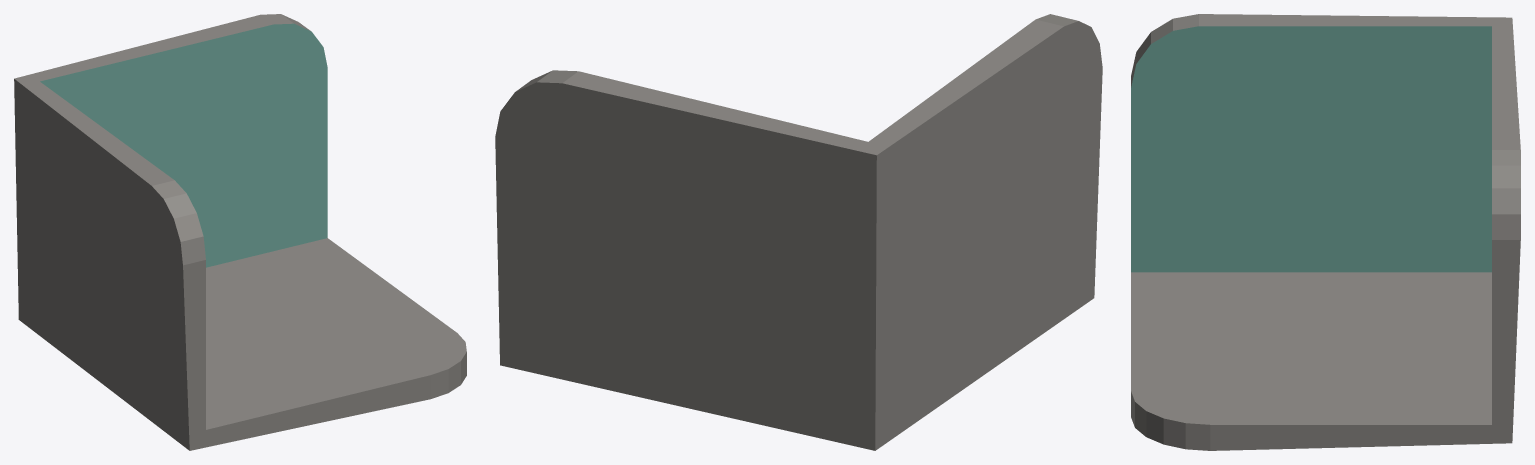
3 renders of one model, left to right at view 1: azimuth 30°, elevation 25°; view 2: azimuth 150°, elevation 25°; view 3: azimuth 270°, elevation 25°, orthographic. The views are drawn at different scales.
Visible parts, largest first — view 1: Cube; view 2: Cube; view 3: Cube.
Part boxes in pixels (left/top/right/bottom): Cube: left=14, top=14, right=466, bottom=450; Cube: left=495, top=14, right=1102, bottom=450; Cube: left=1131, top=14, right=1520, bottom=450.
Size of the model in its own units: 216 by 167 by 216.
